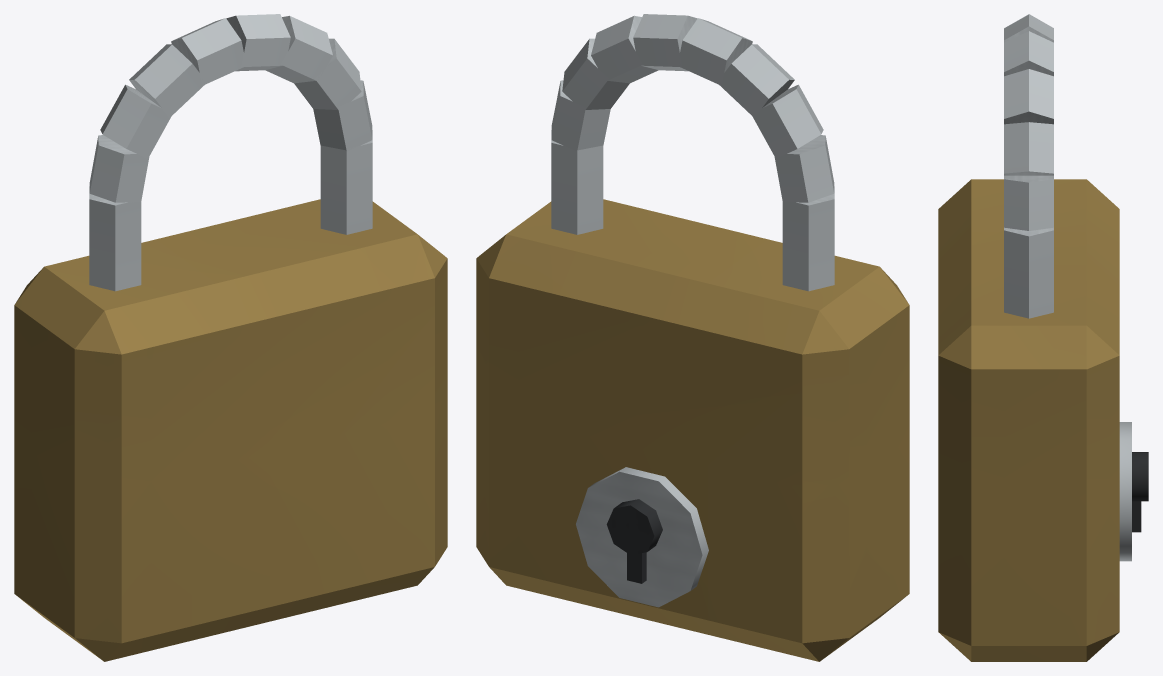
File: padlock.fbx
The picture shows the model from 3 angles, left to right: view 1: azimuth 30°, elevation 25°; view 2: azimuth 150°, elevation 25°; view 3: azimuth 270°, elevation 25°; orthographic projection. The views are drawn at different scales.
Parts seen in each view (by area): view 1: padlock, padlock_shackle; view 2: padlock, padlock_shackle; view 3: padlock, padlock_shackle.
Boxes of the visible parts, x1,y1,x2,y2 form: padlock: (14,199,447,661); padlock_shackle: (89,14,372,291); padlock: (476,199,909,661); padlock_shackle: (551,14,834,291); padlock: (938,179,1148,661); padlock_shackle: (1004,14,1053,318).
Size of the model in its own units: 0.05 by 0.0749 by 0.0255.
Materials: 1 (1 with a texture image).
